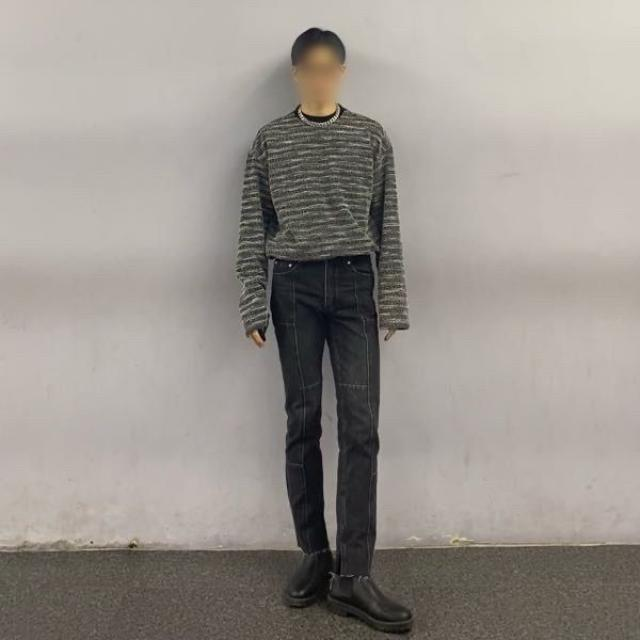denimpants: (270, 256, 378, 578)
longsleeve: (236, 106, 409, 339)
